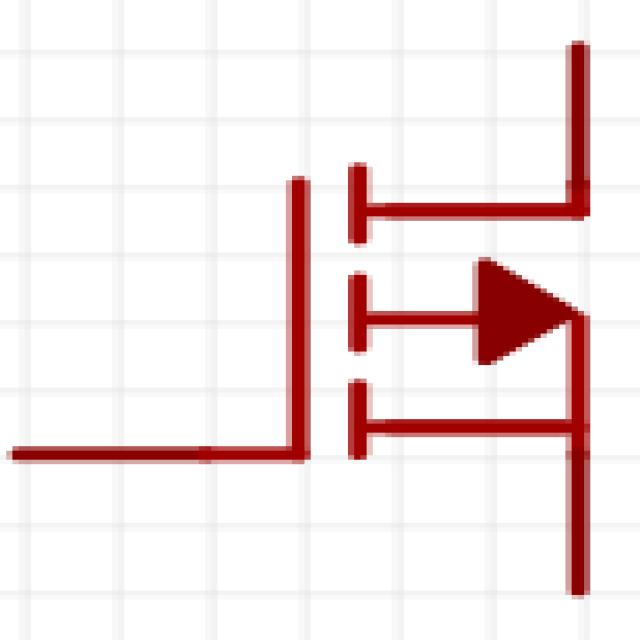pmos: (20, 47, 640, 640)
